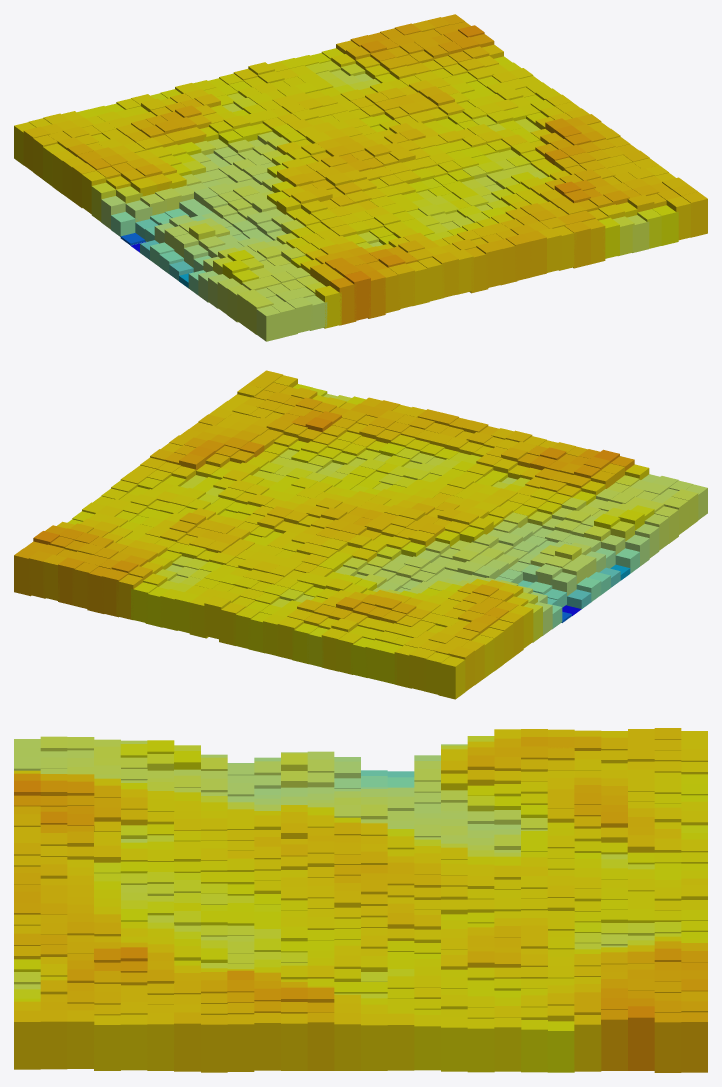
File: population.glb
3 views of the same model, one above another, from view 1: azimuth 30°, elevation 25°; view 2: azimuth 150°, elevation 25°; view 3: azimuth 270°, elevation 25° (orthographic). The views are drawn at different scales.
Parts seen in each view (by area): view 1: population; view 2: population; view 3: population.
Part boxes in pixels (x1,y1,x2,y2): population: (14,14,707,341); population: (14,370,707,699); population: (14,728,707,1072).
Bounding box in the file's own units: 2616 × 238 × 2590.
